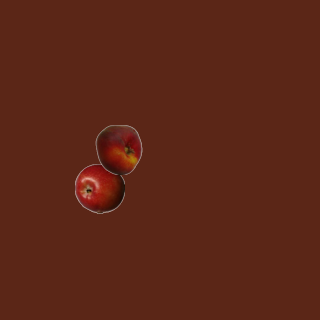Apple Braeburn: (74, 163, 124, 213)
Nectarine Flat: (93, 124, 143, 174)
